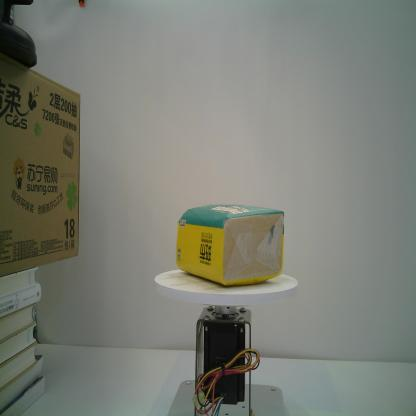Tissue: (173, 202, 286, 288)
